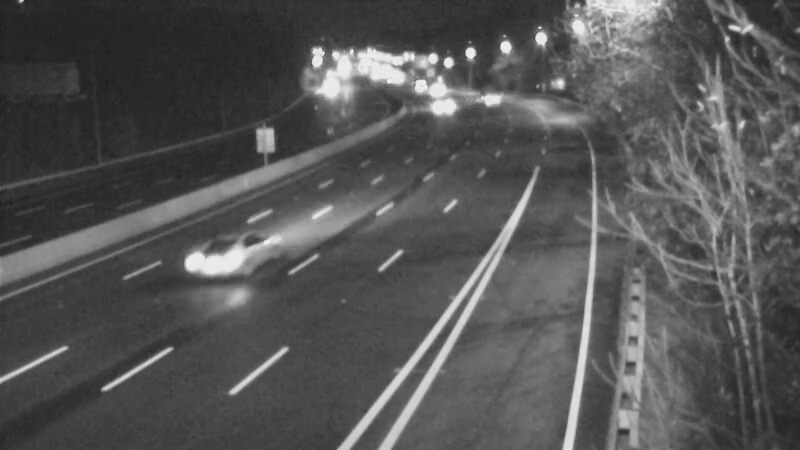vehicle: (182, 222, 262, 302), (467, 65, 517, 115), (407, 64, 457, 114), (418, 81, 468, 131), (303, 63, 353, 113)
